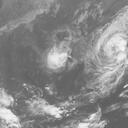cyclone: (95, 29, 127, 77), (43, 43, 71, 74)
